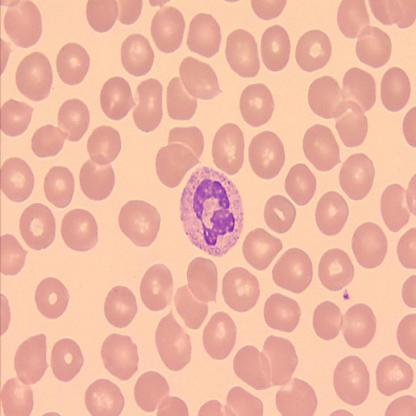Segmented neutrophil: (177, 161, 246, 259)
